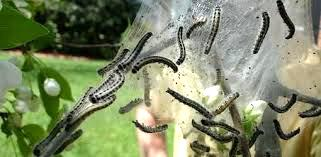Caterpillar: (120, 30, 156, 68), (200, 4, 224, 58), (247, 9, 272, 60), (34, 118, 66, 157), (166, 87, 206, 117), (191, 118, 241, 142), (91, 73, 127, 103), (206, 89, 240, 120), (65, 86, 94, 120), (96, 48, 128, 77), (274, 1, 296, 39), (51, 128, 83, 154), (132, 57, 177, 75), (269, 118, 302, 142), (238, 127, 266, 155), (267, 91, 301, 113), (131, 119, 167, 135), (185, 16, 207, 42), (202, 120, 242, 133), (141, 69, 153, 109), (298, 102, 321, 122), (176, 23, 186, 65), (119, 98, 141, 115), (227, 132, 241, 157), (190, 140, 211, 155), (211, 67, 223, 87)
